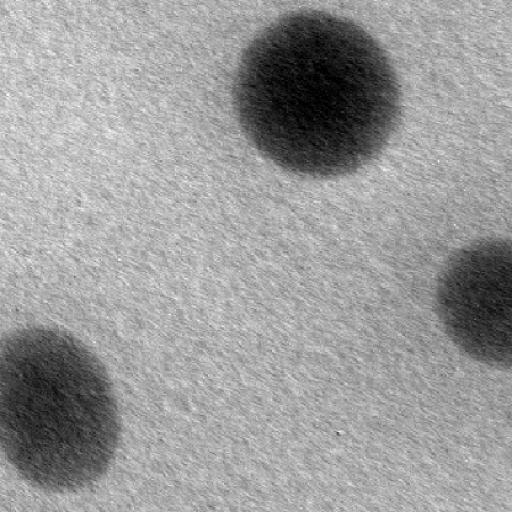Nanoparticles: (232, 8, 400, 177), (0, 325, 121, 487), (437, 232, 512, 366)
